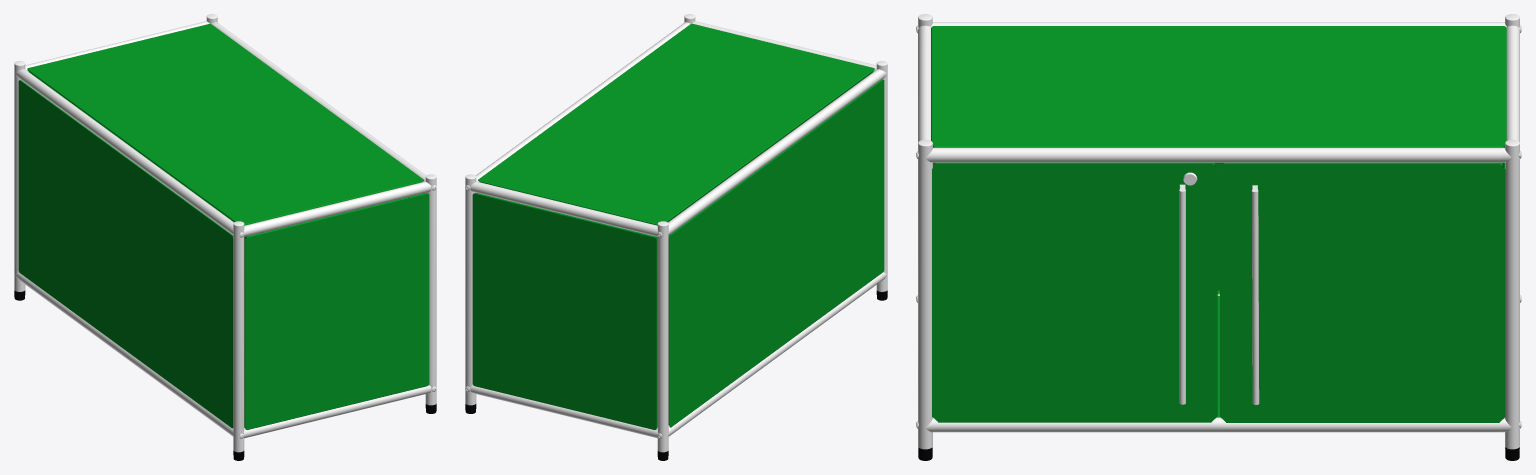
Rendered from 80x40x40-1-7-green_optimized_optimized.glb.
3 renders of one model, left to right at view 1: azimuth 30°, elevation 25°; view 2: azimuth 150°, elevation 25°; view 3: azimuth 270°, elevation 25°, orthographic. The views are drawn at different scales.
Visible parts, largest first — view 1: 直角鐵板-80x40-5 - 零件, new-上塞-1 - 零件; view 2: 直角鐵板-80x40-5 - 零件, new-上塞-1 - 零件; view 3: 直角鐵板-80x40-5 - 零件, new-上塞-1 - 零件.
Part boxes in pixels (left/top/right/bottom): 直角鐵板-80x40-5 - 零件: left=18, top=23, right=429, bottom=429; new-上塞-1 - 零件: left=14, top=14, right=436, bottom=452; 直角鐵板-80x40-5 - 零件: left=472, top=23, right=884, bottom=429; new-上塞-1 - 零件: left=465, top=14, right=887, bottom=452; 直角鐵板-80x40-5 - 零件: left=931, top=26, right=1506, bottom=422; new-上塞-1 - 零件: left=916, top=14, right=1521, bottom=449.
Size of the model in its own units: 0.4203 by 0.4453 by 0.7732.
